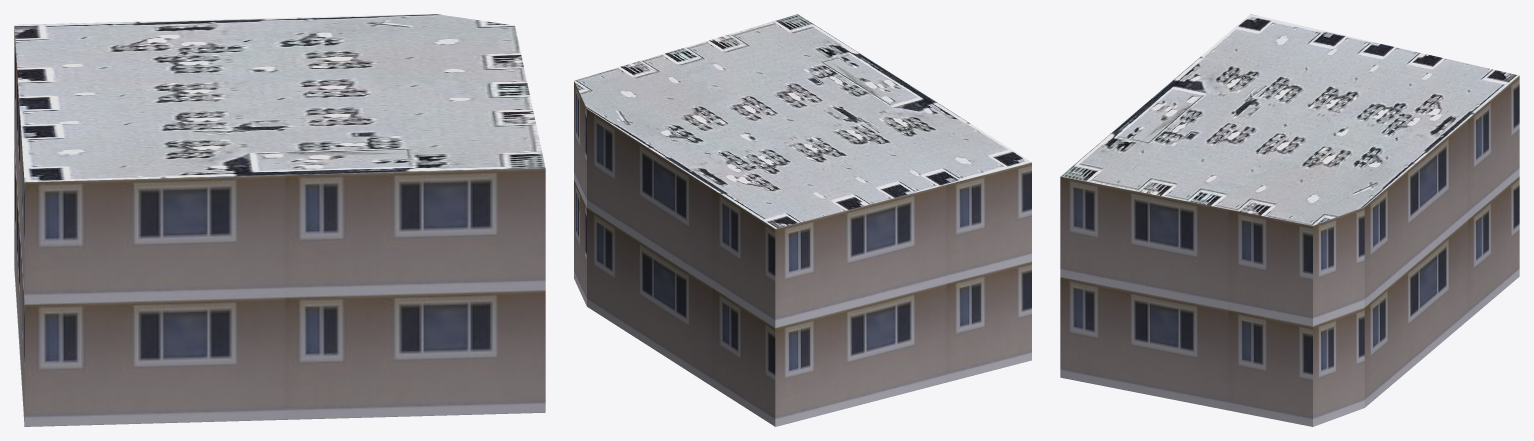
File: ResTex__644.fbx
The picture shows the model from 3 angles, left to right: view 1: azimuth 30°, elevation 25°; view 2: azimuth 150°, elevation 25°; view 3: azimuth 270°, elevation 25°; orthographic projection. The views are drawn at different scales.
Visible parts, largest first — view 1: CityEngineMaterial_21_m, CityEngineMaterial_m; view 2: CityEngineMaterial_21_m, CityEngineMaterial_m; view 3: CityEngineMaterial_21_m, CityEngineMaterial_m.
Part boxes in pixels (bbox=[...]): CityEngineMaterial_21_m: bbox=[14, 27, 545, 426]; CityEngineMaterial_m: bbox=[14, 14, 545, 182]; CityEngineMaterial_21_m: bbox=[574, 81, 1031, 426]; CityEngineMaterial_m: bbox=[574, 14, 1031, 228]; CityEngineMaterial_21_m: bbox=[1060, 76, 1519, 426]; CityEngineMaterial_m: bbox=[1060, 14, 1519, 225].
Bounding box in the file's own units: 13.55 × 6 × 12.41.
Materials: 2 (2 with a texture image).
